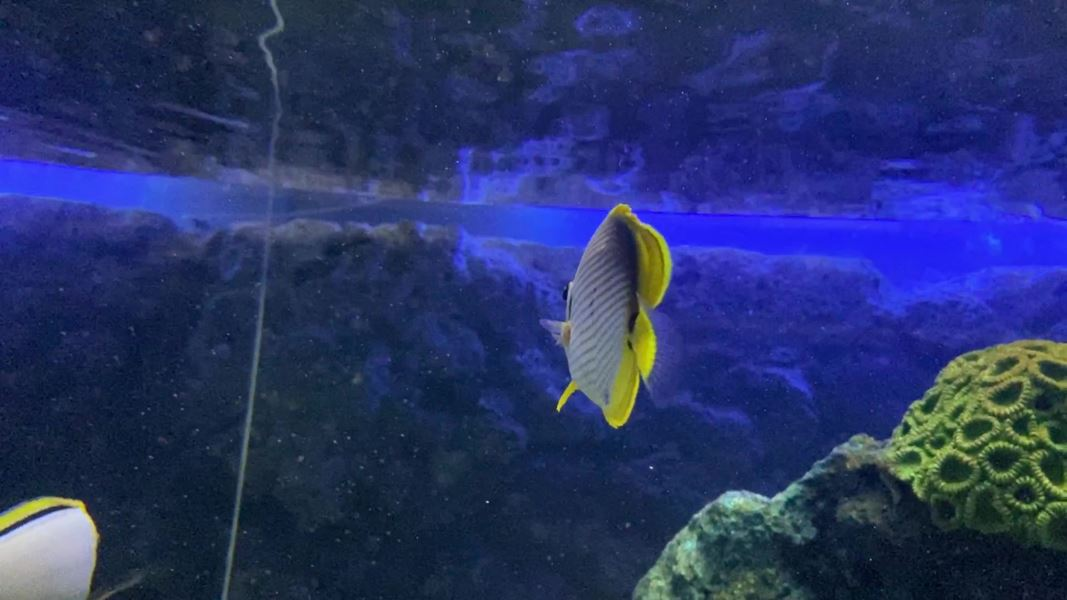Black-backed butterflyfish: (534, 194, 698, 443)
